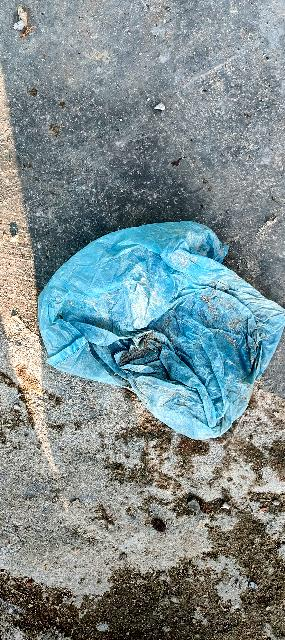polythene: (0, 162, 285, 506)
